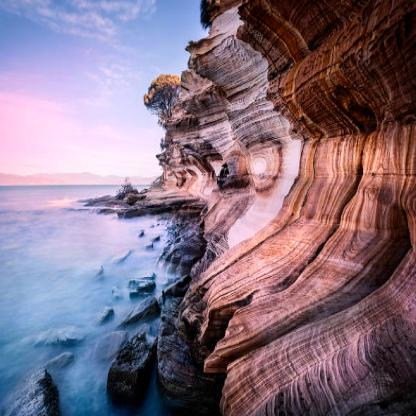Sedimentary_Sandstone: (285, 0, 415, 392), (231, 0, 278, 408), (143, 74, 217, 198), (155, 294, 203, 397), (1, 366, 62, 415)
